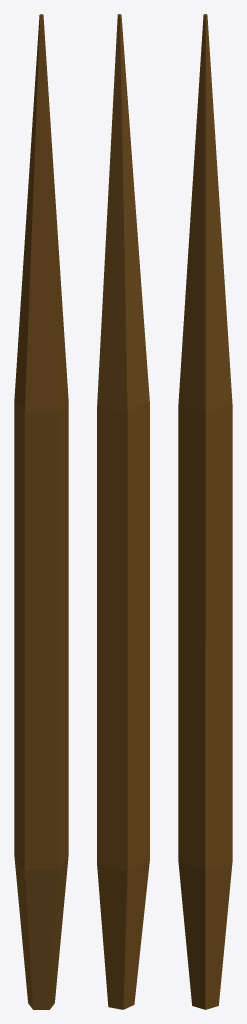
The model's file is Prop_Stick.fbx.
3 views of the same model, side by side, from view 1: azimuth 90°, elevation 25°; view 2: azimuth 210°, elevation 25°; view 3: azimuth 270°, elevation 25° (orthographic).
Visible parts, largest first — view 1: First_Tries:pCylinder1; view 2: First_Tries:pCylinder1; view 3: First_Tries:pCylinder1.
Part boxes in pixels (x1,y1,x2,y2): First_Tries:pCylinder1: [14, 14, 68, 1009]; First_Tries:pCylinder1: [97, 14, 149, 1009]; First_Tries:pCylinder1: [178, 14, 232, 1009].
Size of the model in its own units: 0.00106 by 0.0225 by 0.00111.
